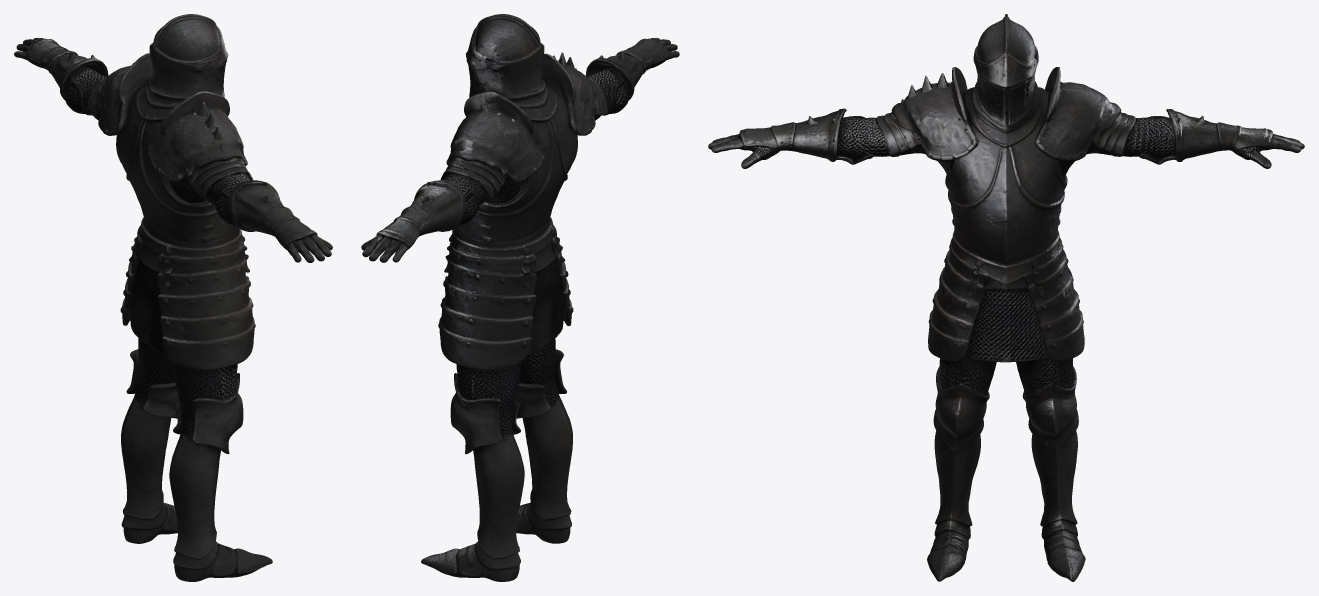
Rendered from armadura_2.glb.
3 views of the same model, side by side, from view 1: azimuth 30°, elevation 25°; view 2: azimuth 150°, elevation 25°; view 3: azimuth 270°, elevation 25° (orthographic).
Parts seen in each view (by area): view 1: tripo_part_0, tripo_part_1, tripo_part_2, tripo_part_3, tripo_part_4; view 2: tripo_part_0, tripo_part_1, tripo_part_4, tripo_part_3, tripo_part_2; view 3: tripo_part_0, tripo_part_1, tripo_part_2, tripo_part_4, tripo_part_3.
Part boxes in pixels (x1,y1,x2,y2): tripo_part_0: (97,53,255,370); tripo_part_1: (121,338,272,581); tripo_part_2: (167,157,332,262); tripo_part_3: (148,14,228,99); tripo_part_4: (14,37,108,120); tripo_part_0: (438,52,596,370); tripo_part_1: (421,338,572,581); tripo_part_4: (361,157,526,262); tripo_part_3: (465,14,545,99); tripo_part_2: (585,38,679,120); tripo_part_0: (891,67,1121,362); tripo_part_1: (927,358,1085,581); tripo_part_2: (708,108,948,168); tripo_part_4: (1064,109,1304,168); tripo_part_3: (973,14,1038,126).
Bounding box in the file's own units: 0.2125 × 1 × 0.9991.
5 materials, 5 textured.
